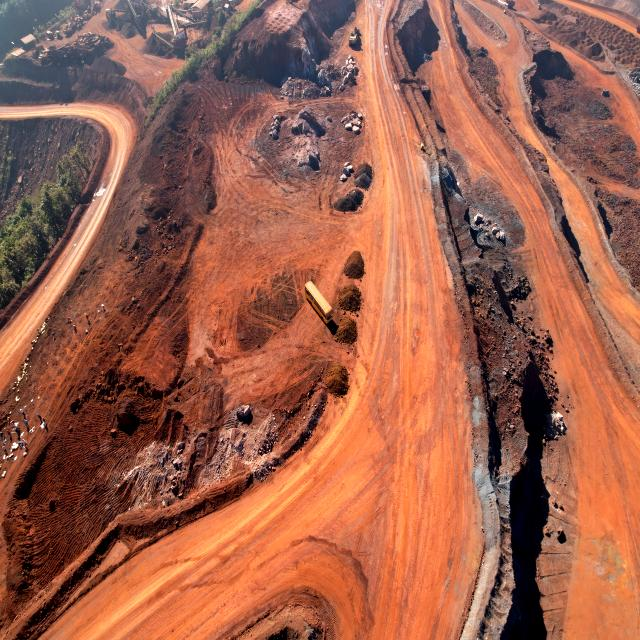Dumper truck: (220, 0, 236, 7)
Excavator: (348, 29, 364, 50), (91, 1, 101, 15), (63, 23, 73, 35)
person: (10, 419, 15, 428), (2, 445, 7, 454), (20, 408, 25, 416), (22, 439, 27, 447), (0, 432, 5, 440), (24, 418, 28, 427), (42, 416, 46, 424), (67, 316, 71, 323), (73, 324, 77, 331), (85, 314, 89, 320), (52, 332, 55, 339), (101, 304, 104, 310)
